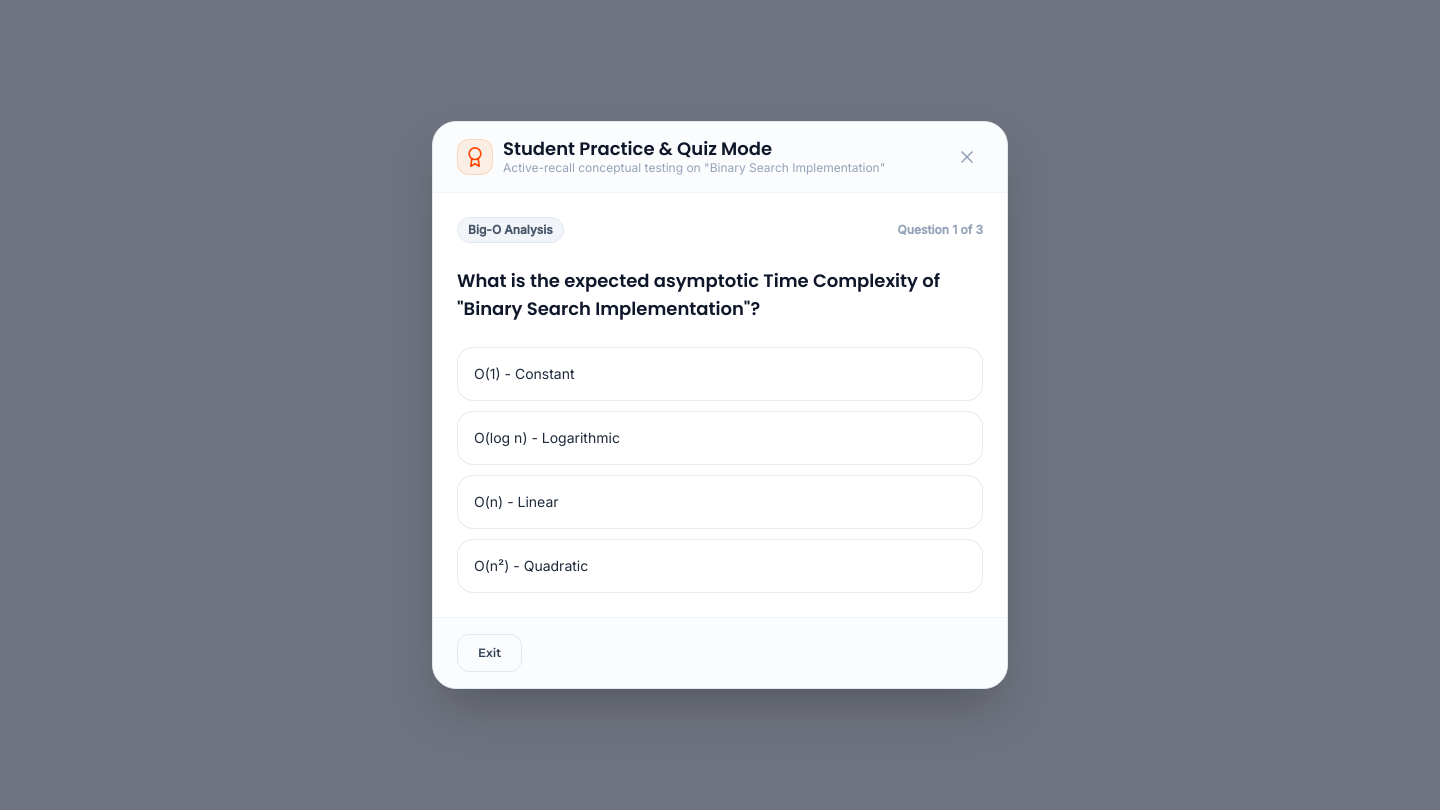
Test: Advanced Developer & Student Features Test Suite › 2. Student Active-Recall & Quiz Mode › allows student to select answers and view instant feedback
Expected: the heading "Student Practice & Quiz Mode" is shown, [503, 136, 772, 161]
Click the button "O(log n) - Logarithmic".
click(547, 438)  # box [457, 411, 983, 465]
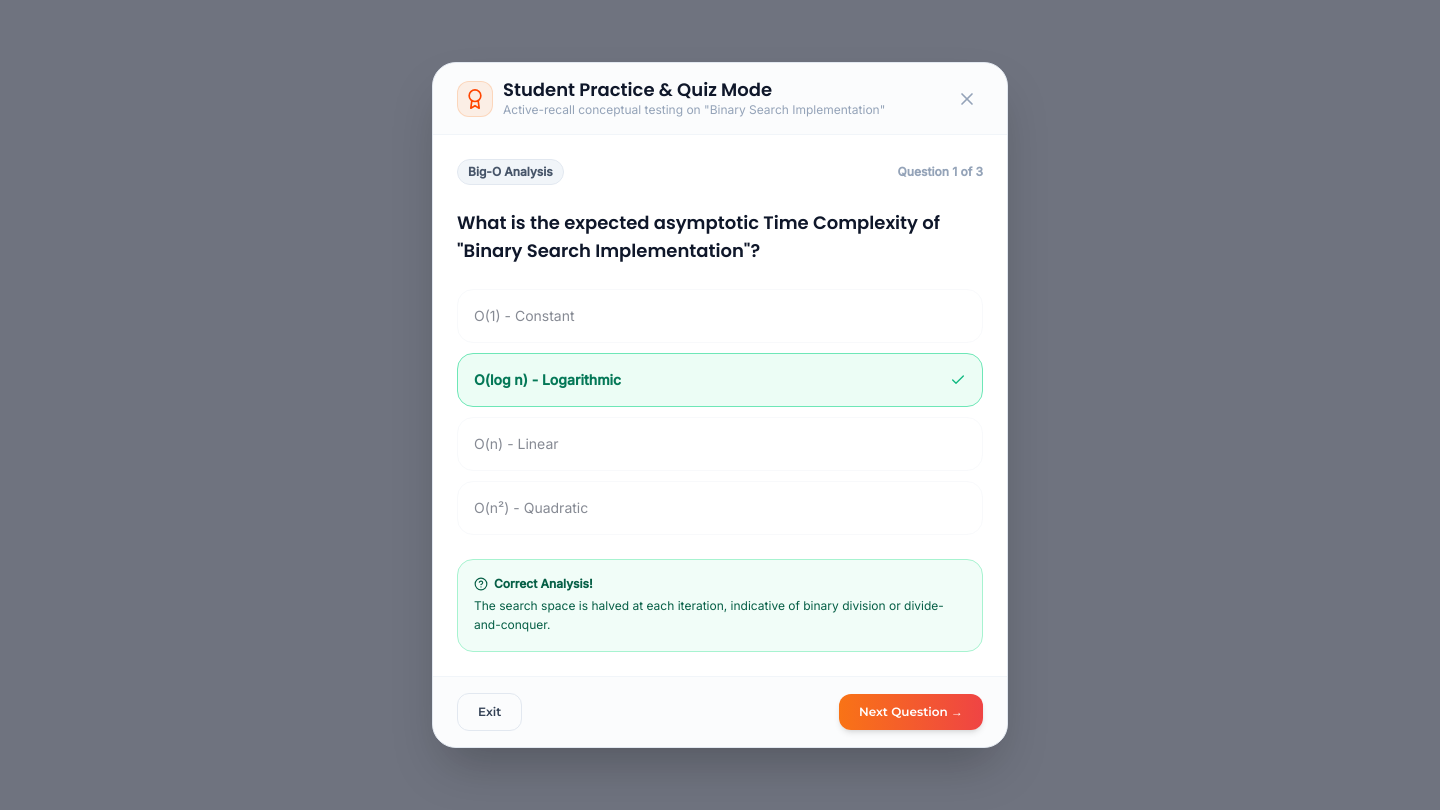
Now the text "Correct Analysis!" is shown, box [474, 576, 593, 591]
